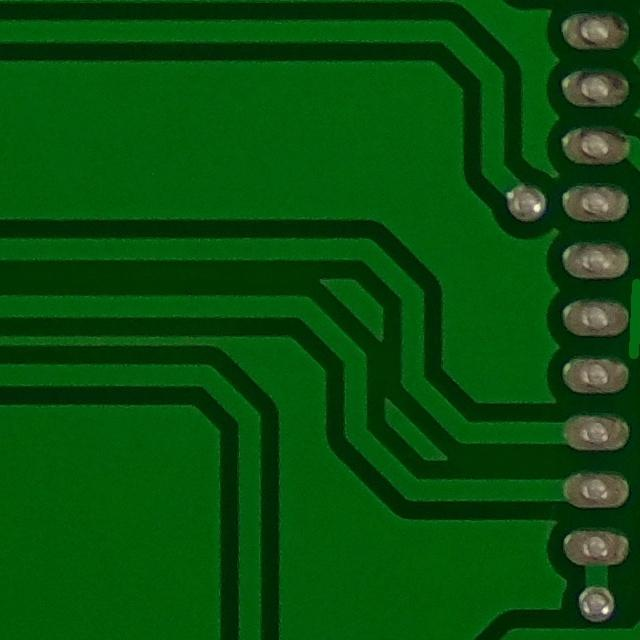spurious_copper: (616, 271, 640, 368)
